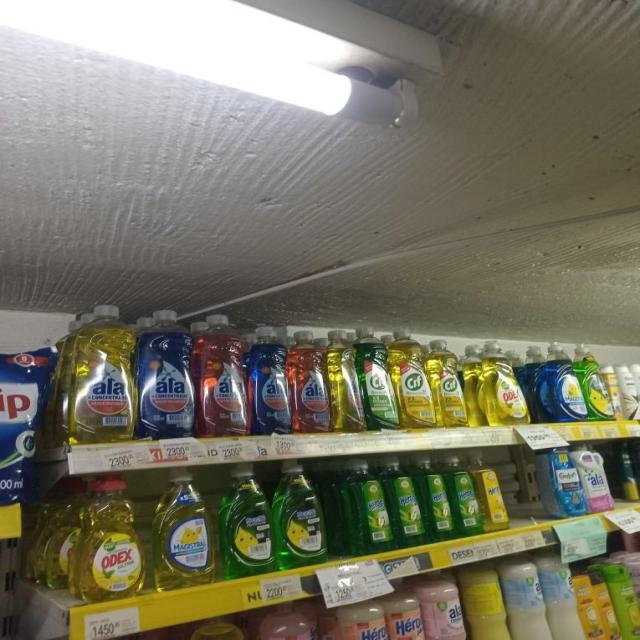ala_conc_amarillo: (68, 303, 134, 444)
ala_conc_azul: (138, 306, 195, 439), (249, 324, 290, 435)
ala_conc_rojo: (196, 313, 248, 437), (290, 328, 329, 436)
ala_crem_blanco: (510, 558, 552, 640), (552, 558, 584, 640)
ala_crem_rosado: (428, 574, 471, 640)
cif_conc_bot_amarilla: (395, 331, 432, 430), (432, 340, 465, 429)
cif_conc_botella_verde: (362, 328, 394, 431)
heroe: (255, 600, 318, 640), (339, 595, 393, 640), (392, 585, 430, 640)
magistral_con_amarillo: (153, 470, 215, 588), (182, 614, 251, 640)
